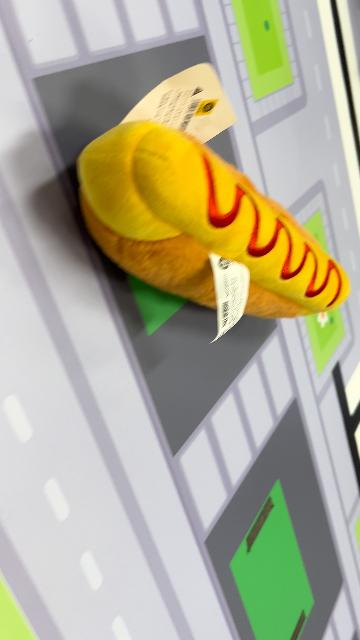hotdog: (75, 119, 351, 324)
